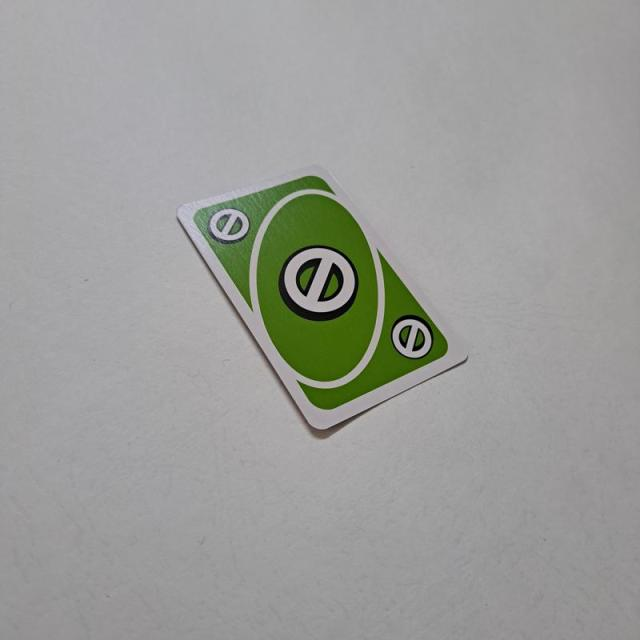Green_Card: (188, 172, 457, 413)
Skip: (205, 203, 252, 244)
